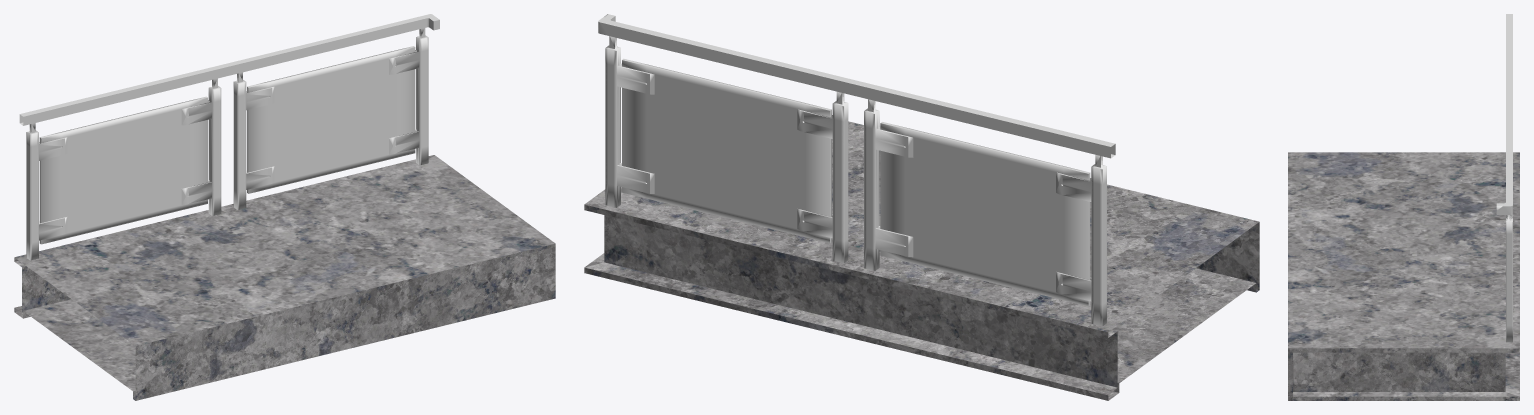
The model's file is SM_MallBalconyStraight_400.fbx.
3 renders of one model, left to right at view 1: azimuth 30°, elevation 25°; view 2: azimuth 150°, elevation 25°; view 3: azimuth 270°, elevation 25°, orthographic. The views are drawn at different scales.
Visible parts, largest first — view 1: SM_MallBalconyStraight_400; view 2: SM_MallBalconyStraight_400; view 3: SM_MallBalconyStraight_400.
Boxes of the visible parts, box(x1,y1,x2,y2) form: SM_MallBalconyStraight_400: box(14, 14, 555, 400); SM_MallBalconyStraight_400: box(584, 14, 1259, 400); SM_MallBalconyStraight_400: box(1288, 14, 1519, 400).
Size of the model in its own units: 400 by 200 by 182.
